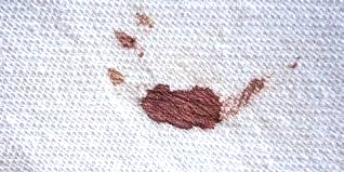blood: (141, 85, 227, 129), (115, 31, 140, 53)
